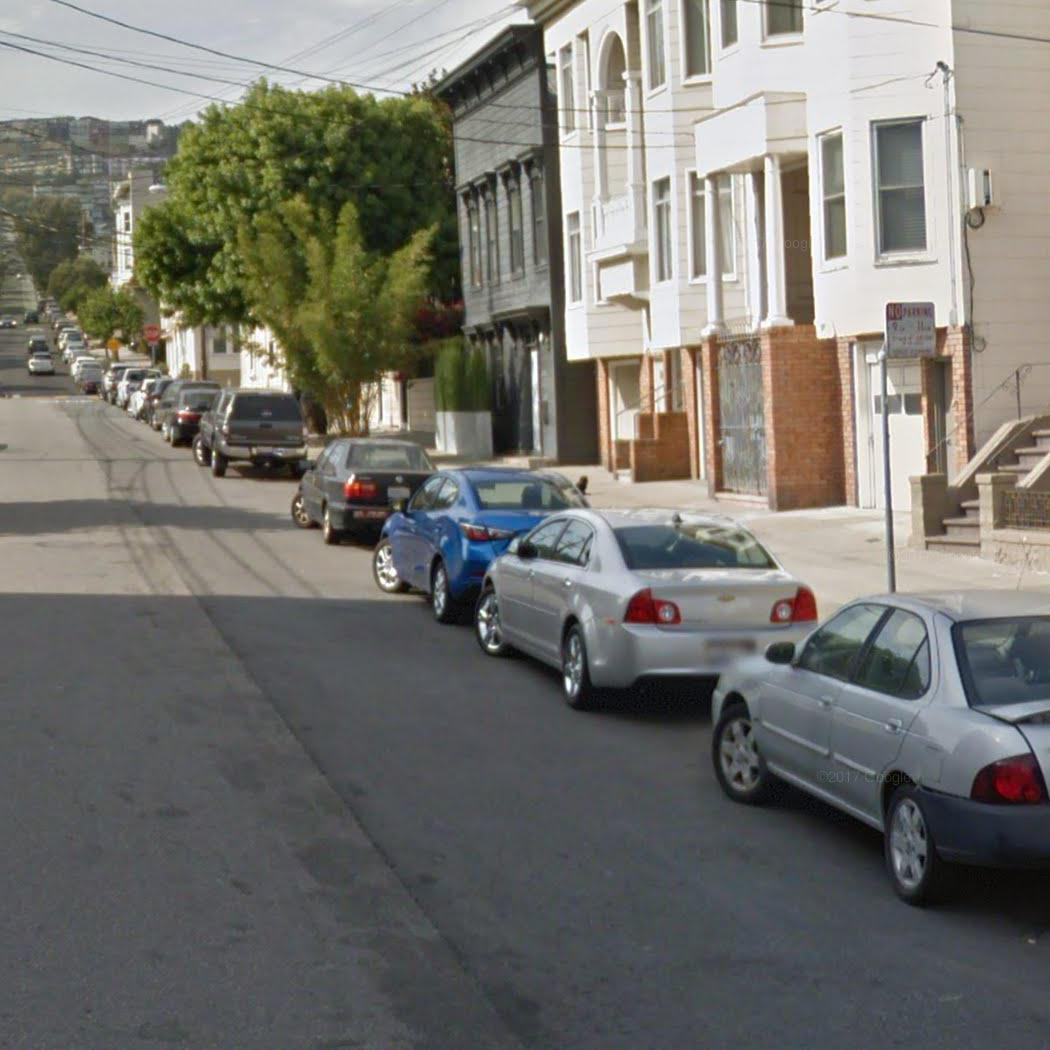No Parking: (884, 301, 940, 365)
